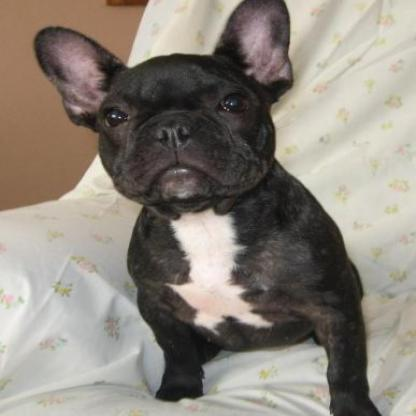French_bulldog: (26, 0, 390, 413)
